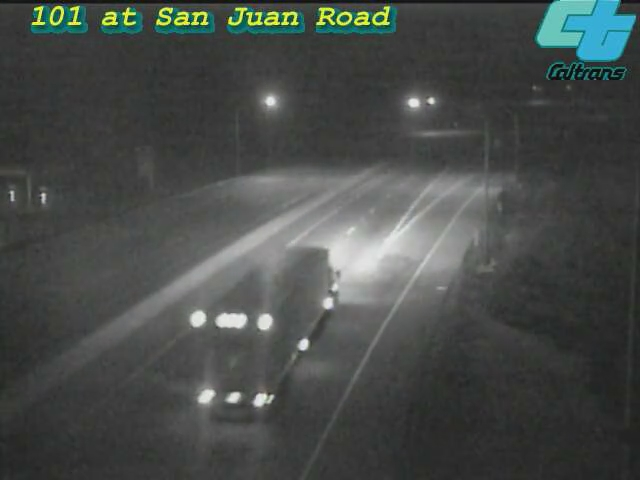vehicle: (240, 270, 320, 350)
